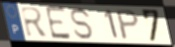1: (103, 9, 120, 41)
7: (140, 8, 162, 43)
E: (44, 6, 74, 41)
P: (115, 9, 141, 42)
R: (19, 6, 51, 39)
S: (69, 7, 95, 41)
